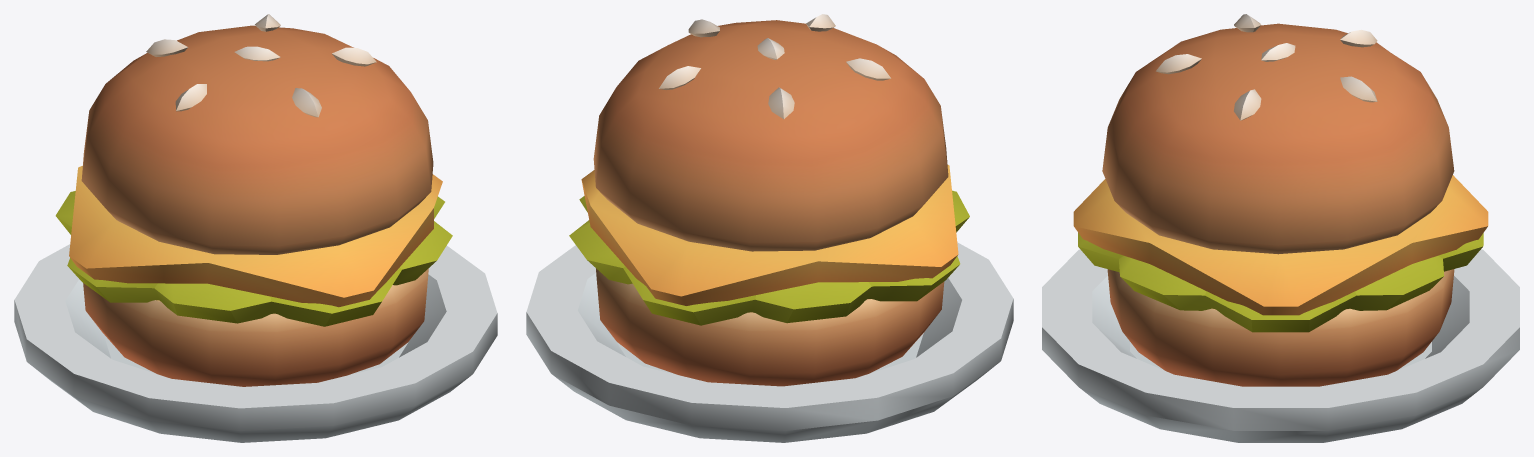
Rendered from plate_bun_lettuce_cheese.glb.
3 renders of one model, left to right at view 1: azimuth 30°, elevation 25°; view 2: azimuth 150°, elevation 25°; view 3: azimuth 270°, elevation 25°, orthographic.
Visible parts, largest first — view 1: plate; view 2: plate; view 3: plate.
Boxes of the visible parts, <box> form: plate: <box>14,14,497,442</box>; plate: <box>526,14,1013,442</box>; plate: <box>1042,14,1519,442</box>.
Size of the model in its own units: 0.95 by 0.6755 by 0.95.
Materials: 5 (5 with a texture image).
